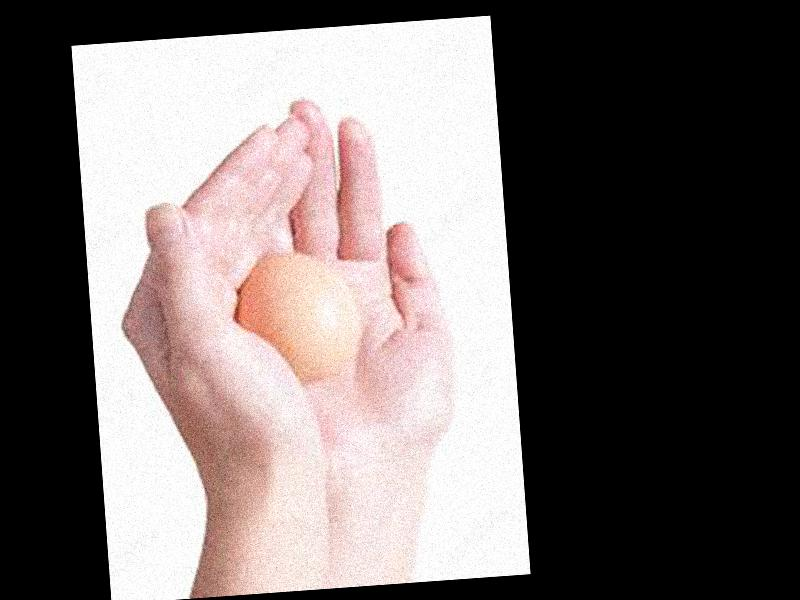Eggs: (235, 249, 359, 380)
